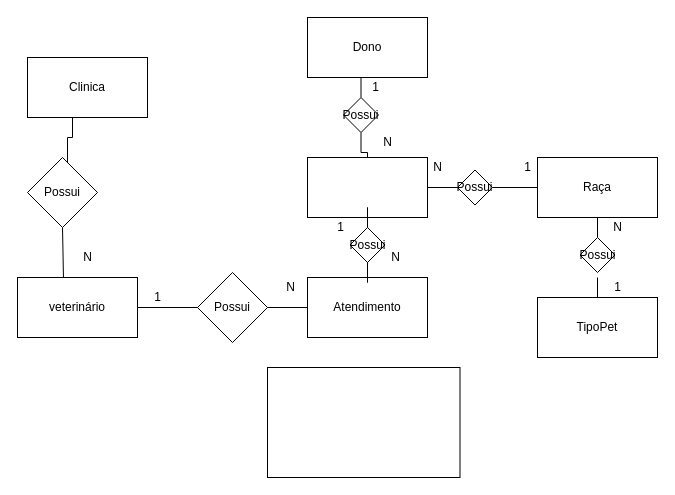
This 675x495 diagram has some shape labels left out. The box of each missing label's shape, as (x1, y1, x2, y2) in pixels:
CONCEITUAI: (266, 366, 460, 478)
pet: (306, 156, 428, 218)
